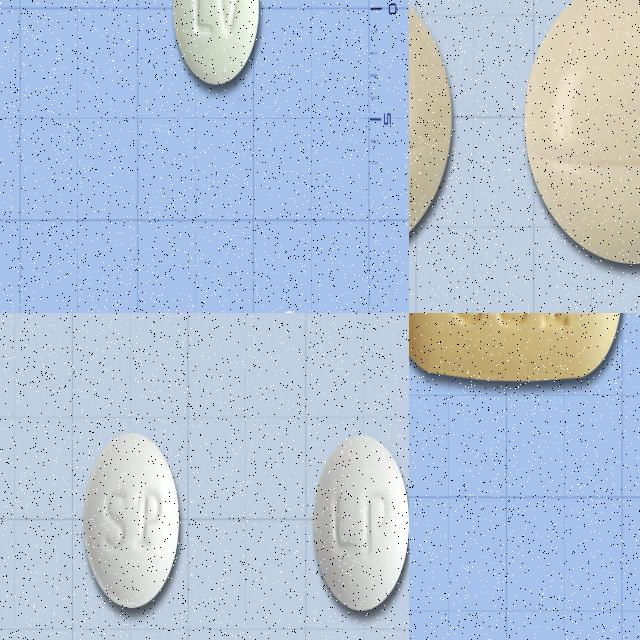Lefocin: (82, 431, 180, 609), (314, 435, 409, 610)
Levox: (172, 0, 259, 83)
Neopol Vaginal Soft Cap: (524, 0, 640, 266)
Sporanox Cap: (409, 313, 623, 382)
